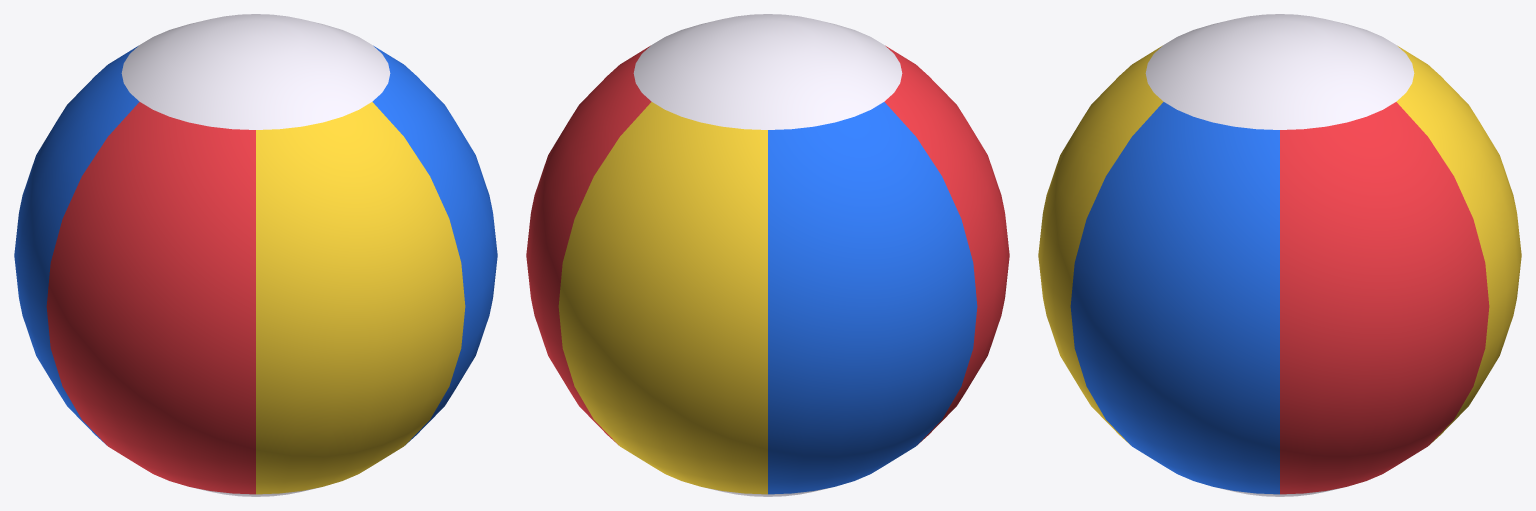
File: ball_3.glb
3 renders of one model, left to right at view 1: azimuth 30°, elevation 25°; view 2: azimuth 150°, elevation 25°; view 3: azimuth 270°, elevation 25°, orthographic.
Visible parts, largest first — view 1: ball_3; view 2: ball_3; view 3: ball_3.
Boxes of the visible parts, bbox=[...] form: ball_3: bbox=[14, 14, 497, 496]; ball_3: bbox=[526, 14, 1009, 496]; ball_3: bbox=[1038, 14, 1521, 496].
Bounding box in the file's own units: 3 × 3 × 3.
Materials: 1 (1 with a texture image).
